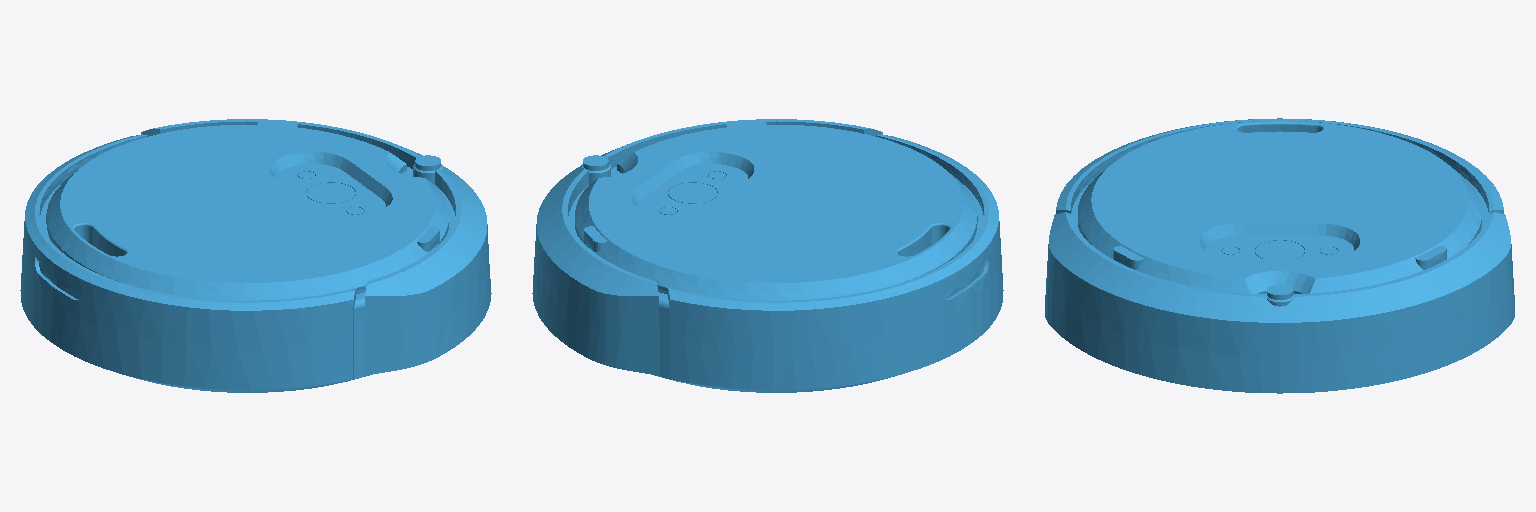
URDF robot description (create_3):
<?xml version="1.0" encoding="utf-8"?>
<robot name="create_3">
  <link name="world"/>
  <link name="base_link">
    <inertial>
      <origin xyz="0.00933769997 0.000512443134 0.0719223395" rpy="0 0 0"/>
      <mass value="2.54999971"/>
      <inertia ixx="0.0191059571" ixy="-9.81622046e-05" ixz="0.000530142308" iyy="0.0190240142" iyz="4.91184554e-05" izz="0.0362139689"/>
    </inertial>
    <visual name="mesh_0">
      <geometry>
        <mesh filename="./meshes/mesh_0_1.obj"/>
      </geometry>
    </visual>
    <visual name="mesh_1">
      <geometry>
        <mesh filename="./meshes/mesh_1_2.obj"/>
      </geometry>
    </visual>
    <visual name="mesh_2">
      <origin xyz="0.125 0 0.0121999998" rpy="-1.57079636 0 0"/>
      <geometry>
        <sphere radius="0.00999999978"/>
      </geometry>
    </visual>
    <collision name="create3_base_collision">
      <origin xyz="0 0 0.0491999984" rpy="0 0 1.57079636"/>
      <geometry>
        <cylinder radius="0.164000005" length="0.0599999987"/>
      </geometry>
    </collision>
    <collision name="mesh_1">
      <geometry>
        <mesh filename="./meshes/mesh_1_3.obj"/>
      </geometry>
    </collision>
    <collision name="mesh_2">
      <origin xyz="0.125 0 0.0121999998" rpy="-1.57079636 0 0"/>
      <geometry>
        <sphere radius="0.00999999978"/>
      </geometry>
    </collision>
  </link>
  <link name="wheel_drop_left">
    <inertial>
      <mass value="0.0500000007"/>
      <inertia ixx="2.08333331e-05" ixy="0" ixz="0" iyy="2.08333331e-05" iyz="0" izz="2.08333331e-05"/>
    </inertial>
  </link>
  <link name="wheel_drop_right">
    <inertial>
      <mass value="0.0500000007"/>
      <inertia ixx="2.08333331e-05" ixy="0" ixz="0" iyy="2.08333331e-05" iyz="0" izz="2.08333331e-05"/>
    </inertial>
  </link>
  <link name="left_wheel">
    <inertial>
      <mass value="0.200000003"/>
      <inertia ixx="6.76531272e-05" ixy="0" ixz="0" iyy="6.76531272e-05" iyz="0" izz="0.000127806255"/>
    </inertial>
    <visual name="visuals">
      <origin xyz="0 0 0" rpy="0 -1.57079627 0"/>
      <geometry>
        <cylinder radius="0.0357500017" length="0.0149999997"/>
      </geometry>
    </visual>
    <collision name="collisions">
      <origin xyz="0 0 0" rpy="0 -1.57079627 0"/>
      <geometry>
        <cylinder radius="0.0357500017" length="0.0149999997"/>
      </geometry>
    </collision>
  </link>
  <link name="right_wheel">
    <inertial>
      <mass value="0.200000003"/>
      <inertia ixx="6.76531272e-05" ixy="0" ixz="0" iyy="6.76531272e-05" iyz="0" izz="0.000127806255"/>
    </inertial>
    <visual name="visuals">
      <origin xyz="0 0 0" rpy="0 -1.57079627 0"/>
      <geometry>
        <cylinder radius="0.0357500017" length="0.0149999997"/>
      </geometry>
    </visual>
    <collision name="collisions">
      <origin xyz="0 0 0" rpy="0 -1.57079627 0"/>
      <geometry>
        <cylinder radius="0.0357500017" length="0.0149999997"/>
      </geometry>
    </collision>
  </link>
  <joint name="floating_base" type="floating">
    <parent link="world"/>
    <child link="base_link"/>
  </joint>
  <joint name="wheel_drop_left_joint" type="prismatic">
    <origin xyz="0 0.116499998 0.0401999988" rpy="0 -1.57079624 1.57079627"/>
    <parent link="base_link"/>
    <child link="wheel_drop_left"/>
    <axis xyz="-1 0 0"/>
    <limit lower="0" upper="0.0299999993" effort="3.40282347e+38"/>
    <dynamics friction="0.100000001"/>
    <!-- isaac:source_drive {"armature": 0.0, "drive": {"damping": 10000000.0, "max_force": 3.4028234663852886e+38, "stiffness": 0.0, "target_position": 0.0}, "instance": "linear", "source": "physx"} -->
  </joint>
  <joint name="wheel_drop_right_joint" type="prismatic">
    <origin xyz="0 -0.116499998 0.0401999988" rpy="0 -1.57079624 1.57079627"/>
    <parent link="base_link"/>
    <child link="wheel_drop_right"/>
    <axis xyz="-1 0 0"/>
    <limit lower="0" upper="0.0299999993" effort="3.40282347e+38"/>
    <dynamics friction="0.100000001"/>
    <!-- isaac:source_drive {"armature": 0.0, "drive": {"damping": 10000000.0, "max_force": 3.4028234663852886e+38, "stiffness": 0.0, "target_position": 0.0}, "instance": "linear", "source": "physx"} -->
  </joint>
  <joint name="left_wheel_joint" type="continuous">
    <origin xyz="0 0 0" rpy="0 -1.57079623 1.57079627"/>
    <parent link="wheel_drop_left"/>
    <child link="left_wheel"/>
    <axis xyz="-1 0 0"/>
    <limit effort="3.40282347e+38"/>
    <dynamics friction="0"/>
    <!-- isaac:source_drive {"armature": 0.0, "drive": {"damping": 10000000.0, "max_force": 3.4028234663852886e+38, "stiffness": 0.0, "target_position": 0.0}, "instance": "angular", "source": "physx"} -->
  </joint>
  <joint name="right_wheel_joint" type="continuous">
    <origin xyz="0 0 0" rpy="0 -1.57079623 1.57079627"/>
    <parent link="wheel_drop_right"/>
    <child link="right_wheel"/>
    <axis xyz="-1 0 0"/>
    <limit effort="3.40282347e+38"/>
    <dynamics friction="0"/>
    <!-- isaac:source_drive {"armature": 0.0, "drive": {"damping": 10000000.0, "max_force": 3.4028234663852886e+38, "stiffness": 0.0, "target_position": 0.0}, "instance": "angular", "source": "physx"} -->
  </joint>
</robot>

--- Facts derived from the render (not from the file) ---
The picture shows the robot from 3 angles, left to right: view 1: azimuth 30°, elevation 25°; view 2: azimuth 150°, elevation 25°; view 3: azimuth 270°, elevation 25°; orthographic projection.
Model create_3 with 6 links and 5 joints (2 continuous, 2 prismatic, 1 floating), rooted at world, posed all joints at 0.
Visible links, largest first — view 1: base_link; view 2: base_link; view 3: base_link.
Boxes of the visible links, bbox=[...] form: base_link: bbox=[20, 119, 491, 392]; base_link: bbox=[532, 119, 1003, 392]; base_link: bbox=[1045, 118, 1514, 393].
Size in the robot's own frame: 0.3427 by 0.3408 by 0.0925 metres.
Meshes: 2 distinct files referenced, 2 mesh visuals loaded (2 OBJ).
